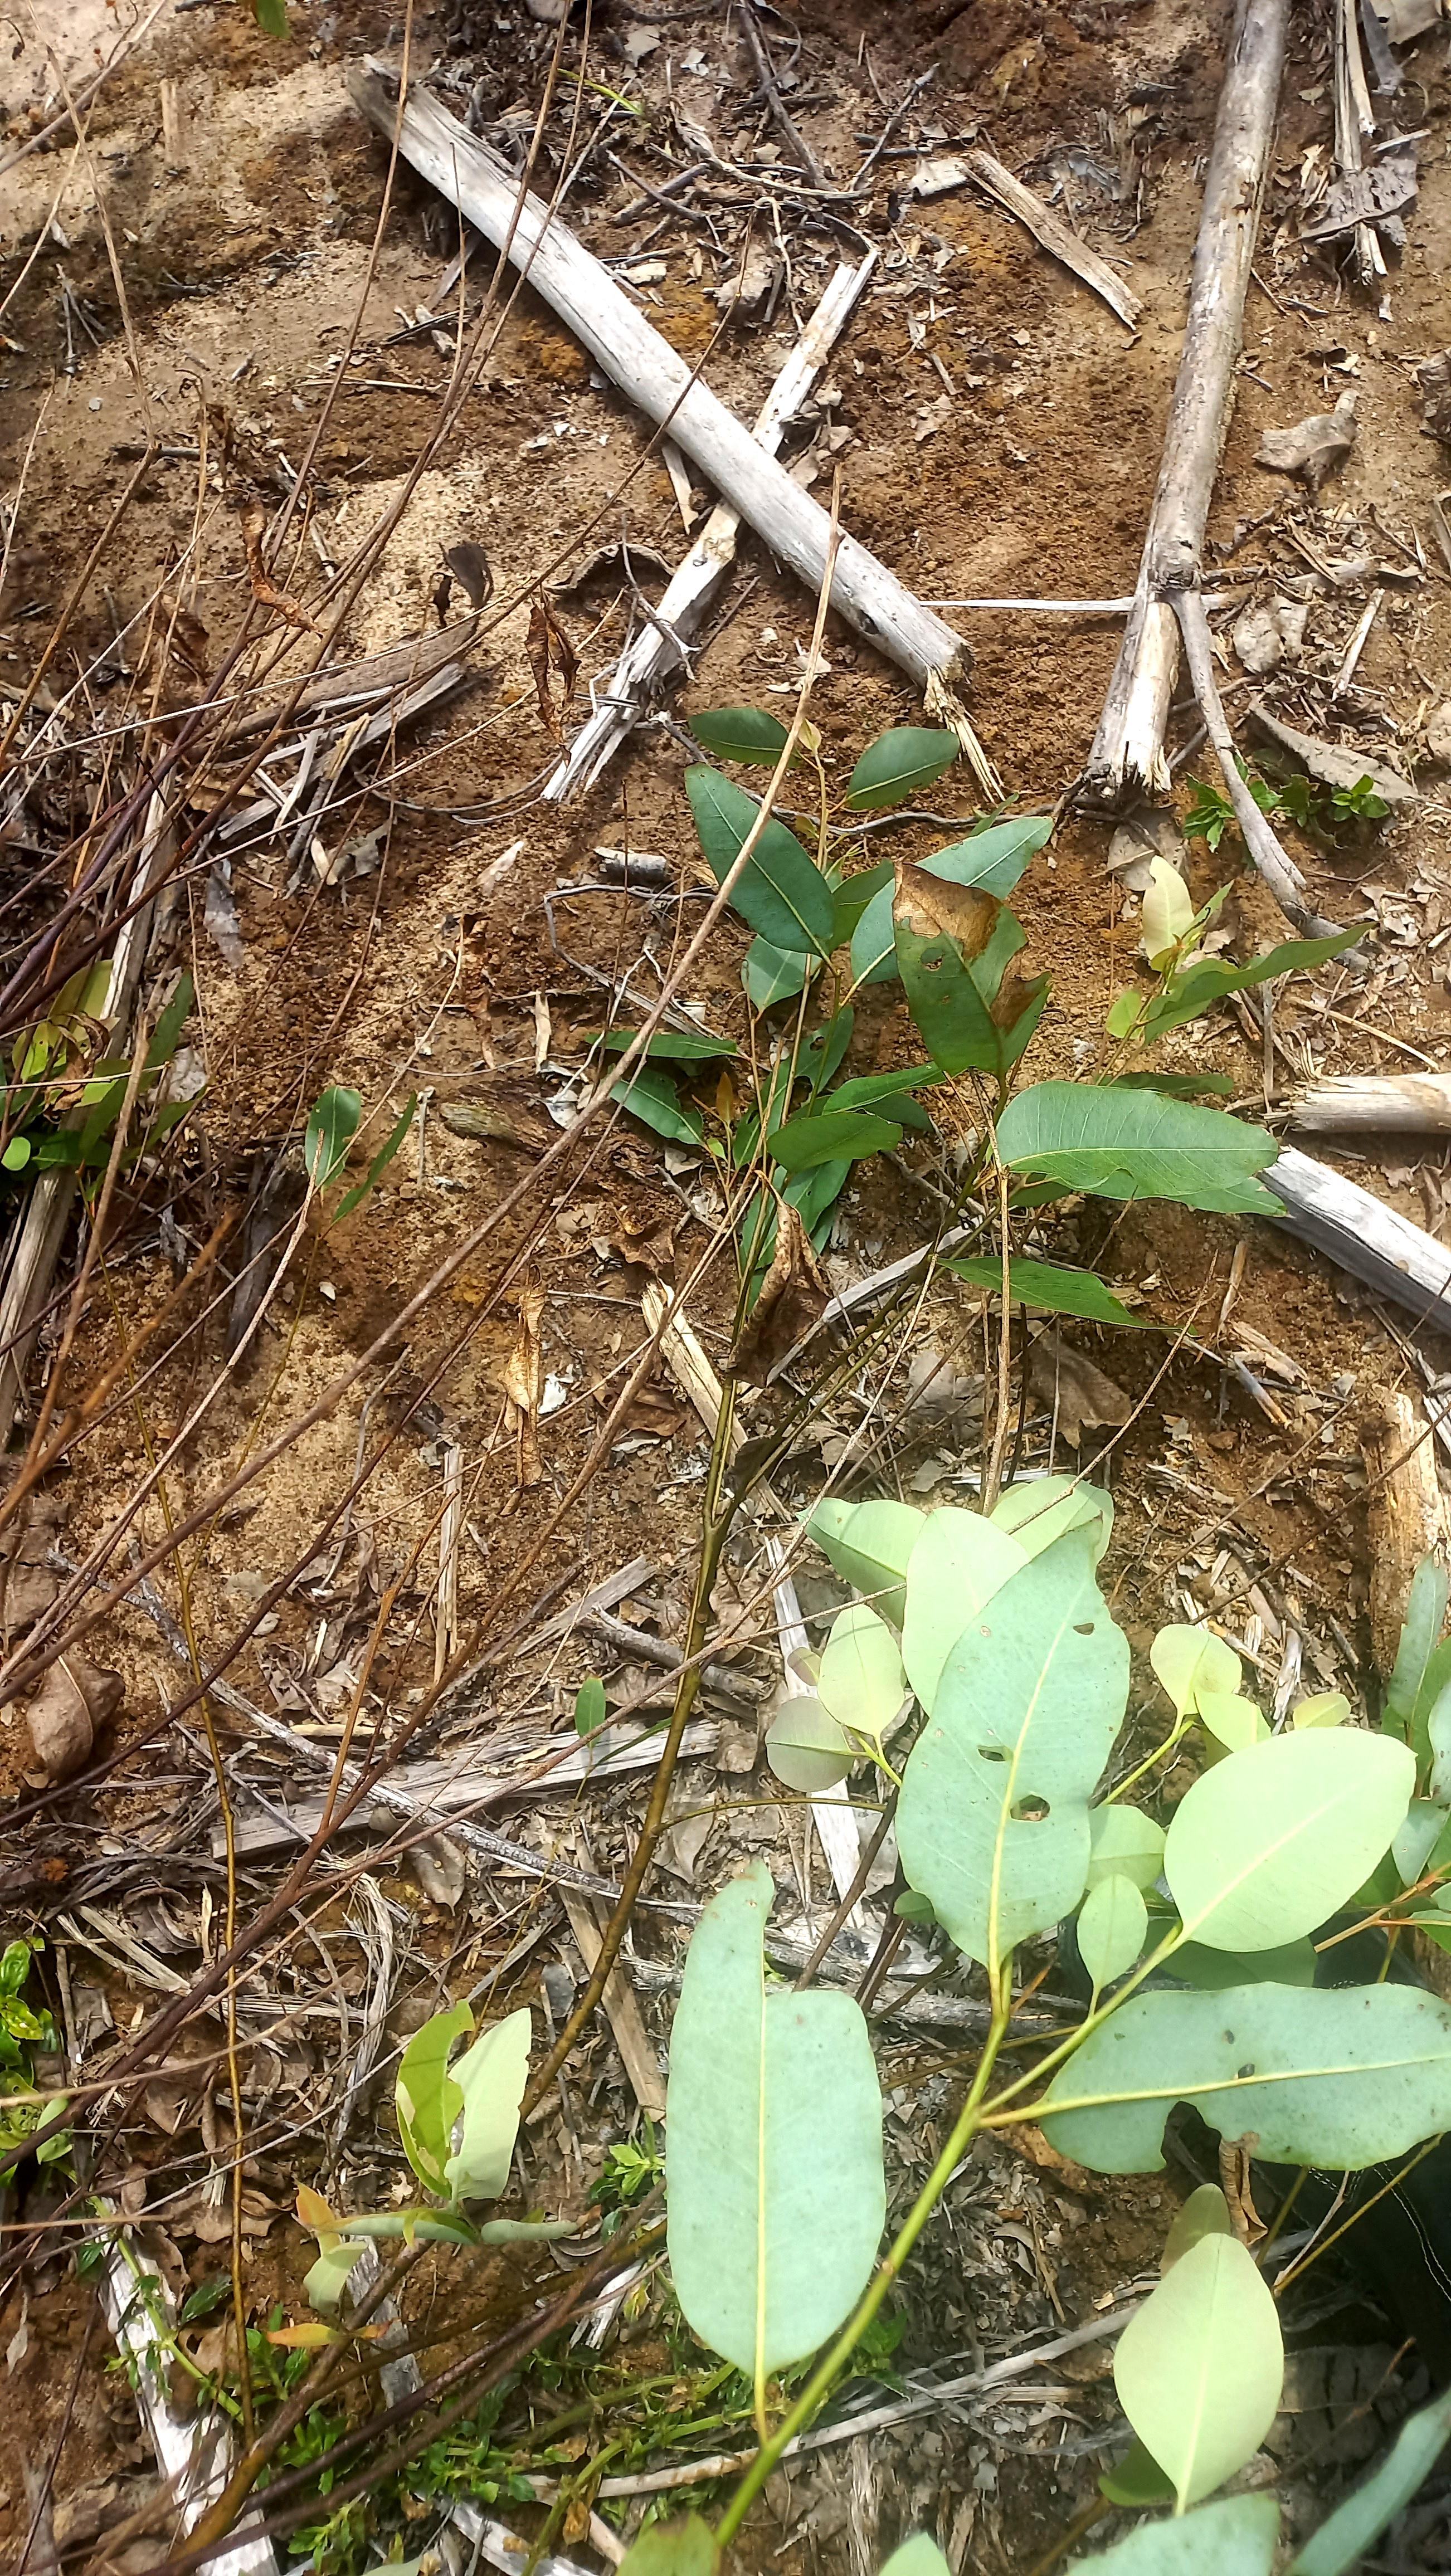Cylindrocladium: (895, 858, 1005, 964), (993, 955, 1051, 1035)
